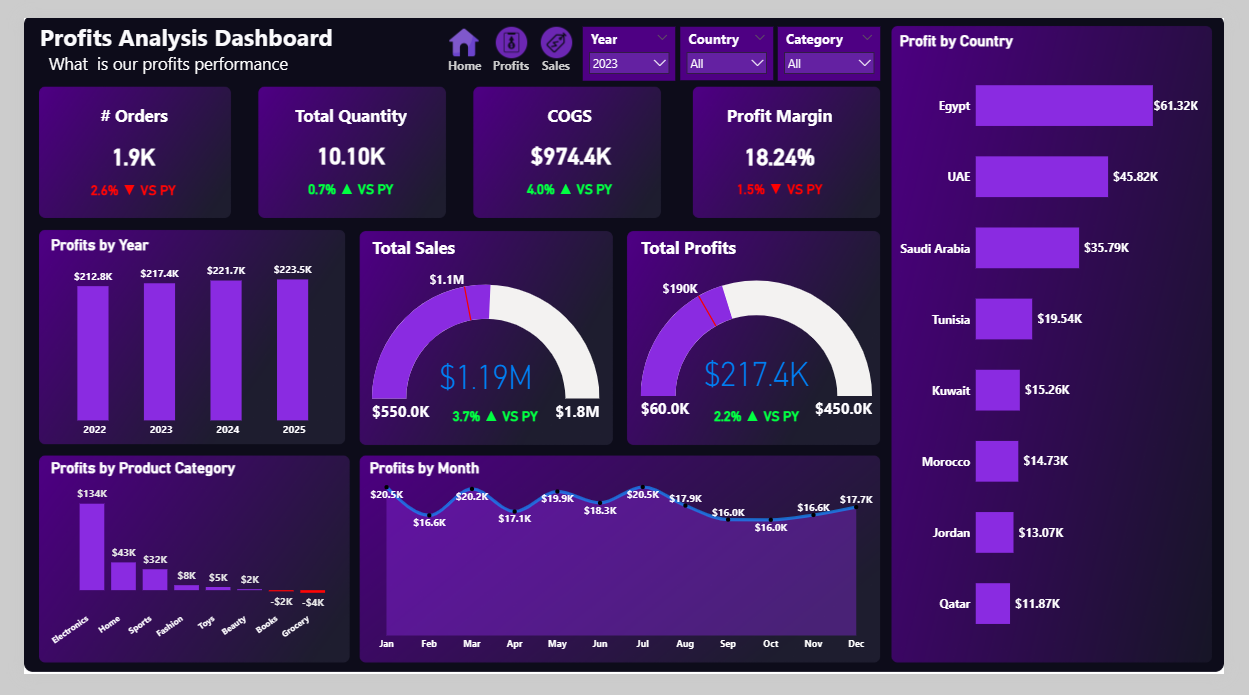

What the dashboard file says about the page in this screenshot:
{"tool":"powerbi","page":{"name":"Profits Dashboard","canvas":[1920,1050],"ordinal":2},"visuals":[{"type":"textbox","box":[20,0,525,106.7],"z":0},{"type":"card","fields":{"Values":["AllMeasures.#Orders"]},"box":[20,108,310,222],"z":1000},{"type":"textbox","box":[114,132,124,50],"z":2000},{"type":"card","fields":{"Values":["AllMeasures.TotalQuantity"]},"box":[368,106,310,222],"z":3000},{"type":"textbox","box":[428,132,190,50],"z":4000},{"type":"card","fields":{"Values":["AllMeasures (2).COGS"]},"box":[720,106,310,222],"z":5000},{"type":"textbox","box":[778,132,190,50],"z":6000},{"type":"card","fields":{"Values":["AllMeasures (2).Profit Margin"]},"box":[1054,108,310,222],"z":7000},{"type":"textbox","box":[1114,132,190,50],"z":8000},{"type":"gauge","title":"Total Sales","fields":{"TargetValue":["AllMeasures.SalesTarget"],"MinValue":["AllMeasures.MinGauage"],"MaxValue":["AllMeasures.MaxGauage"],"Y":["AllMeasures.TotalSales"]},"box":[552,348,374,316],"z":9000},{"type":"gauge","title":"Total Profits","fields":{"Y":["AllMeasures.TotalProfits"],"TargetValue":["AllMeasures.ProfitsTarget"],"MinValue":["AllMeasures.MinProfitsGauage"],"MaxValue":["AllMeasures.MaxProfitsGauage"]},"box":[982,348,380,336],"z":10000},{"type":"clusteredColumnChart","title":"Profits by Year","fields":{"Category":["Dim_Date.Year"],"Y":["AllMeasures.TotalProfits"]},"box":[38,348,470,332],"z":11000},{"type":"lineChart","title":"Profits by Month","fields":{"Category":["Dim_Date.Month Name"],"Y":["AllMeasures.TotalProfits"]},"box":[548,706,816,316],"z":12000},{"type":"clusteredColumnChart","title":"Profits by Product Category","fields":{"Category":["Dim_Product.Category"],"Y":["AllMeasures.TotalProfits"]},"box":[38,706,470,316],"z":13000},{"type":"slicer","fields":{"Values":["Dim_Product.Category"]},"box":[1206,14,164,86],"z":15000},{"type":"slicer","fields":{"Values":["Dim_Date.Year"]},"box":[894,14,148,86],"z":16000},{"type":"clusteredBarChart","title":"Profit by Country","fields":{"Category":["Dim_Customer.Country"],"Y":["AllMeasures.TotalProfits"]},"box":[1395.1,21.6,487.2,1001.3],"z":17000},{"type":"image","box":[653.7,14.3,100,50],"z":18000,"group":"g3"},{"type":"group","id":"g1","title":"Group 2","box":[800.4,14.3,102,102],"z":18000},{"type":"group","id":"g2","title":"Group 3","box":[727,14.3,102,102],"z":19000},{"type":"group","id":"g3","title":"Group 4","box":[653.7,14.3,102,102],"z":20000},{"type":"image","box":[729,14.3,100,50],"z":20000,"group":"g2"},{"type":"image","box":[802.4,14.3,100,50],"z":21000,"group":"g1"},{"type":"card","fields":{"Values":["AllMeasures.OrdersNumYOYpct"]},"box":[58,242,234,66],"z":21000},{"type":"textbox","box":[653.7,58.3,102,58],"z":22000,"group":"g3"},{"type":"card","fields":{"Values":["AllMeasures.T.QuantityYOYpct"]},"box":[414,240,218,66],"z":22000},{"type":"textbox","box":[727,58.3,102,58],"z":23000,"group":"g2"},{"type":"card","fields":{"Values":["AllMeasures.COGSYOYpct"]},"box":[764,240,218,66],"z":23000},{"type":"textbox","box":[800.4,58.3,102,58],"z":24000,"group":"g1"},{"type":"card","fields":{"Values":["AllMeasures.ProfitMarginYOYpct"]},"box":[1100,240,218,66],"z":24000},{"type":"card","fields":{"Values":["AllMeasures.T.SalesYOYpct"]},"box":[664,610,180,54],"z":25000},{"type":"card","fields":{"Values":["AllMeasures.TotalProfitspct"]},"box":[1082,610,180,54],"z":26000},{"type":"slicer","fields":{"Values":["Dim_Customer.Country"]},"box":[1049.7,14.3,148.5,85.9],"z":26001}]}

Visuals, with their boxes in screenshot pixels (x1, y1, x2, y2), scaled from the page's 1920x1050 canvas onto the 1249x695 screenshot:
textbox: x1=13, y1=0, x2=355, y2=71
card - AllMeasures.#Orders: x1=13, y1=71, x2=215, y2=218
textbox: x1=74, y1=87, x2=155, y2=120
card - AllMeasures.TotalQuantity: x1=239, y1=70, x2=441, y2=217
textbox: x1=278, y1=87, x2=402, y2=120
card - AllMeasures (2).COGS: x1=468, y1=70, x2=670, y2=217
textbox: x1=506, y1=87, x2=630, y2=120
card - AllMeasures (2).Profit Margin: x1=686, y1=71, x2=887, y2=218
textbox: x1=725, y1=87, x2=848, y2=120
"Total Sales" gauge: x1=359, y1=230, x2=602, y2=440
"Total Profits" gauge: x1=639, y1=230, x2=886, y2=453
"Profits by Year" clusteredColumnChart: x1=25, y1=230, x2=330, y2=450
"Profits by Month" lineChart: x1=356, y1=467, x2=887, y2=676
"Profits by Product Category" clusteredColumnChart: x1=25, y1=467, x2=330, y2=676
slicer - Dim_Product.Category: x1=785, y1=9, x2=891, y2=66
slicer - Dim_Date.Year: x1=582, y1=9, x2=678, y2=66
"Profit by Country" clusteredBarChart: x1=908, y1=14, x2=1224, y2=677
image: x1=425, y1=9, x2=490, y2=43
"Group 2" group: x1=521, y1=9, x2=587, y2=77
"Group 3" group: x1=473, y1=9, x2=539, y2=77
"Group 4" group: x1=425, y1=9, x2=492, y2=77
image: x1=474, y1=9, x2=539, y2=43
image: x1=522, y1=9, x2=587, y2=43
card - AllMeasures.OrdersNumYOYpct: x1=38, y1=160, x2=190, y2=204
textbox: x1=425, y1=39, x2=492, y2=77
card - AllMeasures.T.QuantityYOYpct: x1=269, y1=159, x2=411, y2=203
textbox: x1=473, y1=39, x2=539, y2=77
card - AllMeasures.COGSYOYpct: x1=497, y1=159, x2=639, y2=203
textbox: x1=521, y1=39, x2=587, y2=77
card - AllMeasures.ProfitMarginYOYpct: x1=716, y1=159, x2=857, y2=203
card - AllMeasures.T.SalesYOYpct: x1=432, y1=404, x2=549, y2=440
card - AllMeasures.TotalProfitspct: x1=704, y1=404, x2=821, y2=440
slicer - Dim_Customer.Country: x1=683, y1=9, x2=779, y2=66
